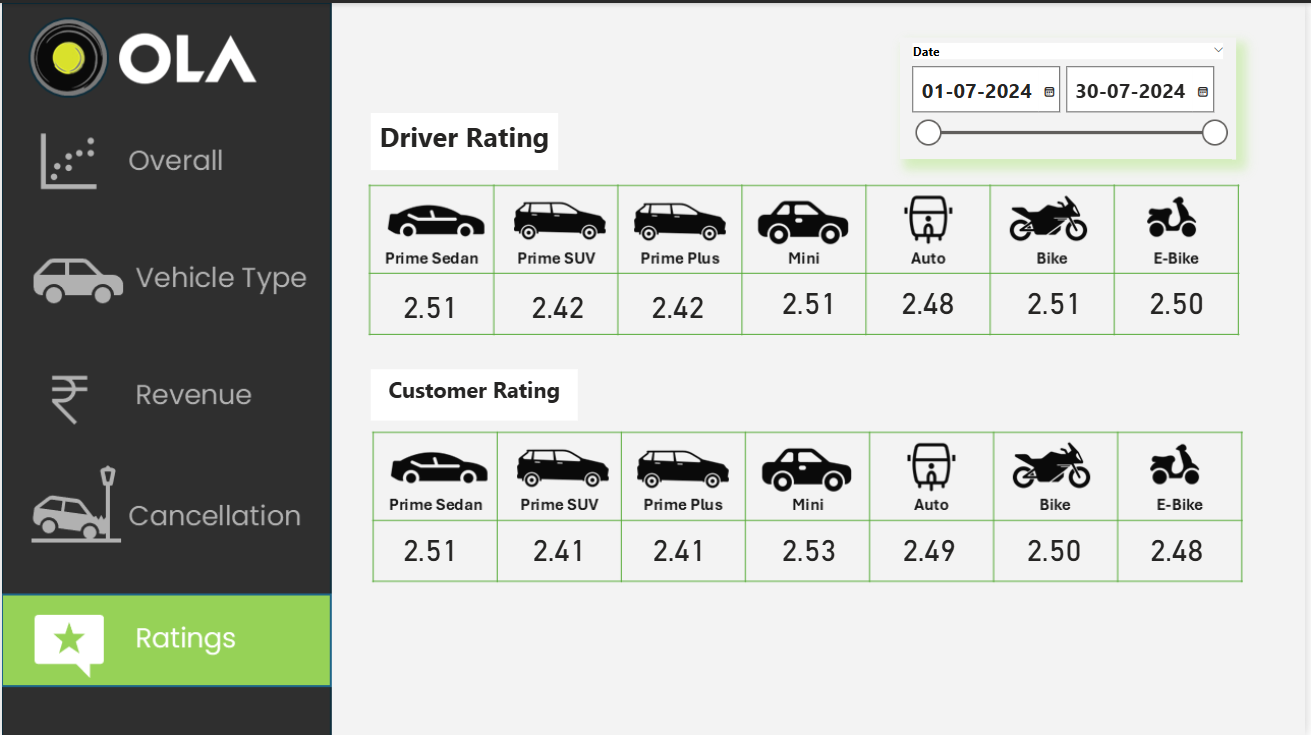

Layout of this report page (visuals, bound fields, positions):
{"tool":"powerbi","page":{"name":"Ratings","canvas":[1280,720],"ordinal":4},"visuals":[{"type":"card","fields":{"Values":["Avg(July.Driver_Ratings)"]},"box":[371.9,273.1,97.4,46.7],"z":0},{"type":"card","fields":{"Values":["Avg(July.Driver_Ratings)"]},"box":[496.7,273.1,97.4,46.7],"z":1},{"type":"card","fields":{"Values":["Avg(July.Driver_Ratings)"]},"box":[614.8,273.1,97.4,46.7],"z":2},{"type":"card","fields":{"Values":["Avg(July.Driver_Ratings)"]},"box":[743.7,270.3,97.4,46.7],"z":3},{"type":"card","fields":{"Values":["Avg(July.Driver_Ratings)"]},"box":[860.4,270.3,97.4,46.7],"z":4},{"type":"card","fields":{"Values":["Avg(July.Driver_Ratings)"]},"box":[983.9,270.3,97.4,46.7],"z":5},{"type":"card","fields":{"Values":["Avg(July.Driver_Ratings)"]},"box":[1104.6,270.3,97.4,46.7],"z":6},{"type":"textbox","box":[362.3,108.4,183.9,56.3],"z":7},{"type":"textbox","box":[362.3,359.5,203.1,50.8],"z":8},{"type":"card","fields":{"Values":["Avg(July.Customer_Rating)"]},"box":[371.9,513.2,97.4,46.7],"z":9},{"type":"card","fields":{"Values":["Avg(July.Customer_Rating)"]},"box":[743.7,513.2,97.4,46.7],"z":10},{"type":"card","fields":{"Values":["Avg(July.Customer_Rating)"]},"box":[616.1,513.2,97.4,46.7],"z":11},{"type":"card","fields":{"Values":["Avg(July.Customer_Rating)"]},"box":[498.1,513.2,97.4,46.7],"z":12},{"type":"card","fields":{"Values":["Avg(July.Customer_Rating)"]},"box":[861.8,513.2,97.4,46.7],"z":13},{"type":"card","fields":{"Values":["Avg(July.Customer_Rating)"]},"box":[983.9,513.2,97.4,46.7],"z":14},{"type":"card","fields":{"Values":["Avg(July.Customer_Rating)"]},"box":[1104.6,513.2,97.4,46.7],"z":15},{"type":"slicer","fields":{"Values":["July.Date"]},"box":[881,34.3,330.7,119.4],"z":16}]}

Visuals, with their boxes on the page's 1280x720 design canvas (x1, y1, x2, y2). These are canvas units, not pixel positions in the 1311x735 screenshot, which may show the page scaled, cropped or inside an application window:
card - Avg(July.Driver_Ratings): x1=372 y1=273 x2=469 y2=320
card - Avg(July.Driver_Ratings): x1=497 y1=273 x2=594 y2=320
card - Avg(July.Driver_Ratings): x1=615 y1=273 x2=712 y2=320
card - Avg(July.Driver_Ratings): x1=744 y1=270 x2=841 y2=317
card - Avg(July.Driver_Ratings): x1=860 y1=270 x2=958 y2=317
card - Avg(July.Driver_Ratings): x1=984 y1=270 x2=1081 y2=317
card - Avg(July.Driver_Ratings): x1=1105 y1=270 x2=1202 y2=317
textbox: x1=362 y1=108 x2=546 y2=165
textbox: x1=362 y1=360 x2=565 y2=410
card - Avg(July.Customer_Rating): x1=372 y1=513 x2=469 y2=560
card - Avg(July.Customer_Rating): x1=744 y1=513 x2=841 y2=560
card - Avg(July.Customer_Rating): x1=616 y1=513 x2=714 y2=560
card - Avg(July.Customer_Rating): x1=498 y1=513 x2=596 y2=560
card - Avg(July.Customer_Rating): x1=862 y1=513 x2=959 y2=560
card - Avg(July.Customer_Rating): x1=984 y1=513 x2=1081 y2=560
card - Avg(July.Customer_Rating): x1=1105 y1=513 x2=1202 y2=560
slicer - July.Date: x1=881 y1=34 x2=1212 y2=154
